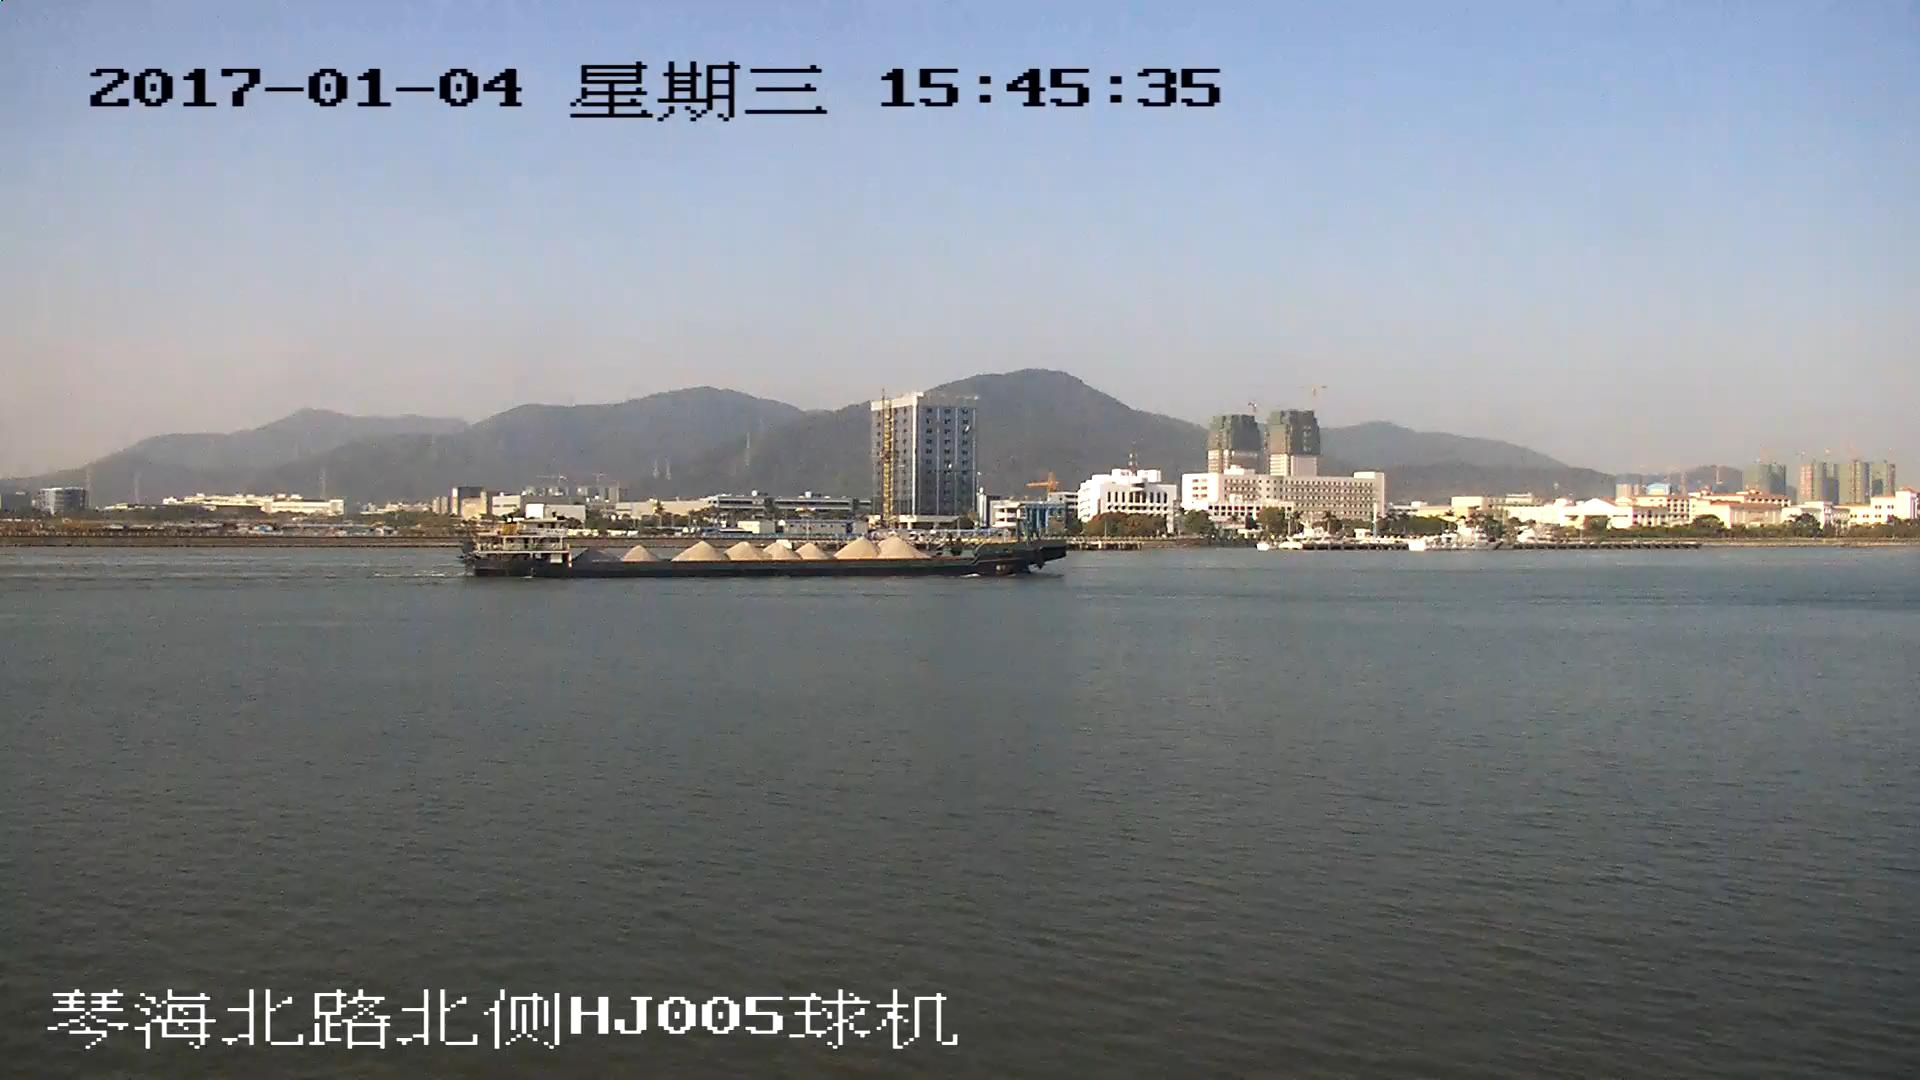ore carrier: (460, 513, 1070, 581)
